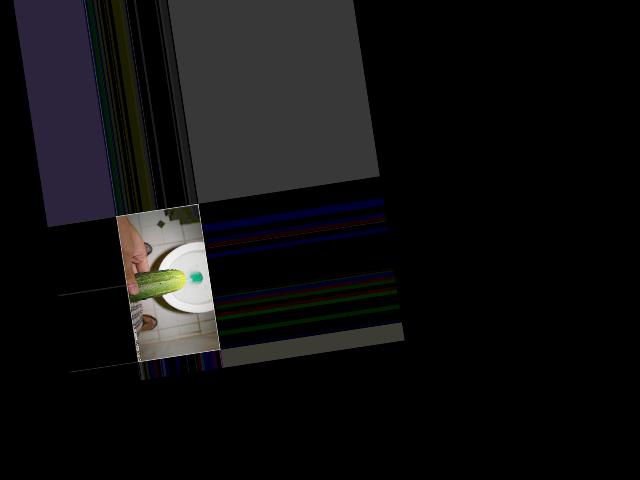cucumber: (124, 266, 187, 303)
